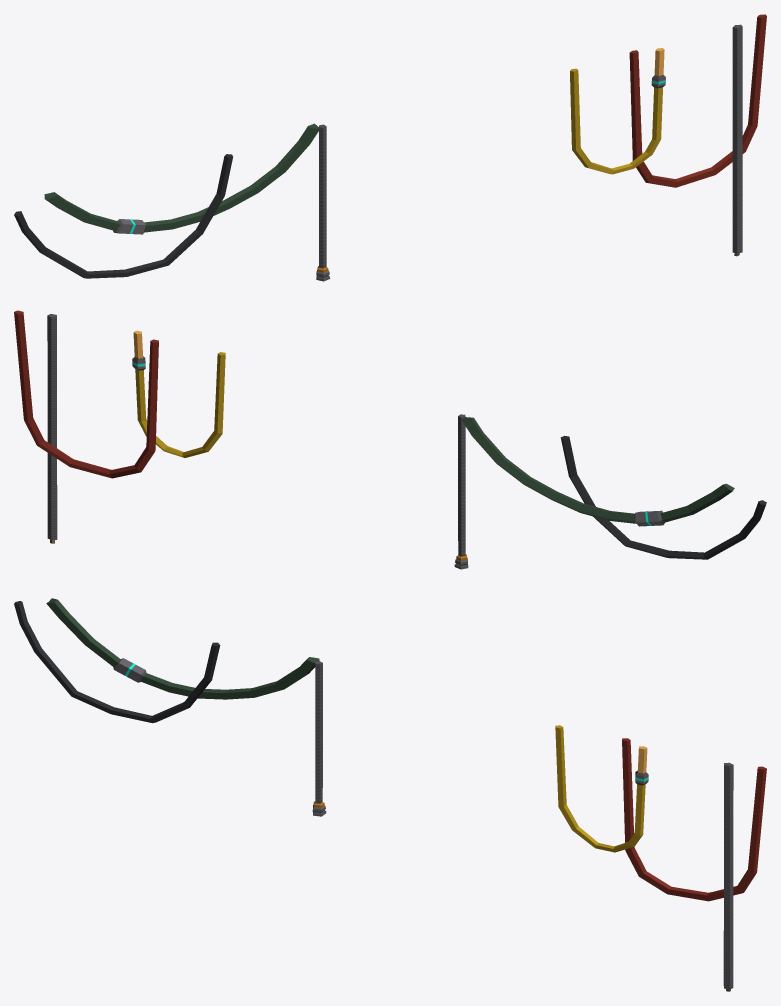
Rendered from SM_Prop_Wires_18.fbx.
3 renders of one model, top to bottom at view 1: azimuth 30°, elevation 25°; view 2: azimuth 150°, elevation 25°; view 3: azimuth 330°, elevation 25°, orthographic.
Visible parts, largest first — view 1: SM_Prop_Wires_18; view 2: SM_Prop_Wires_18; view 3: SM_Prop_Wires_18.
Part boxes in pixels (bbox=[...]): SM_Prop_Wires_18: bbox=[14, 14, 766, 281]; SM_Prop_Wires_18: bbox=[14, 310, 766, 569]; SM_Prop_Wires_18: bbox=[14, 598, 766, 991].
Bounding box in the file's own units: 705 × 206 × 22.83.
